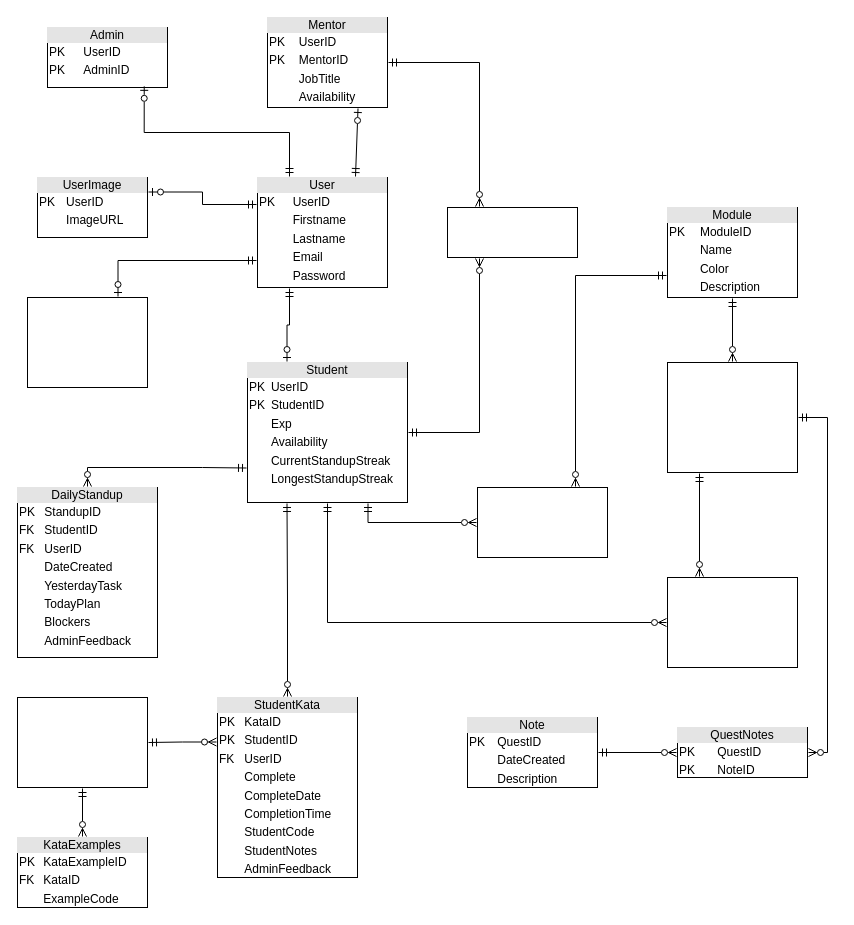
Image size: 854x925. Some labels were removed from this diagram. The shapes that lost their labels are listed below. From the top down, each one's centre as x and y in pixels, then its label:
[512,232]: StudentMentor PK StudentID PK MentorID
[87,342]: Authentication PK TokenID FK UserID Role Expires
[732,417]: Quest PK QuestID FK ModuleID Name Description Expgain
[542,522]: StudentModules PK StudentID PK ModuleID Completed
[732,622]: StudentQuests PK StudentID PK QuestID Completed LastActivity
[82,742]: Kata PK KataID Description DateAssigned KataName
